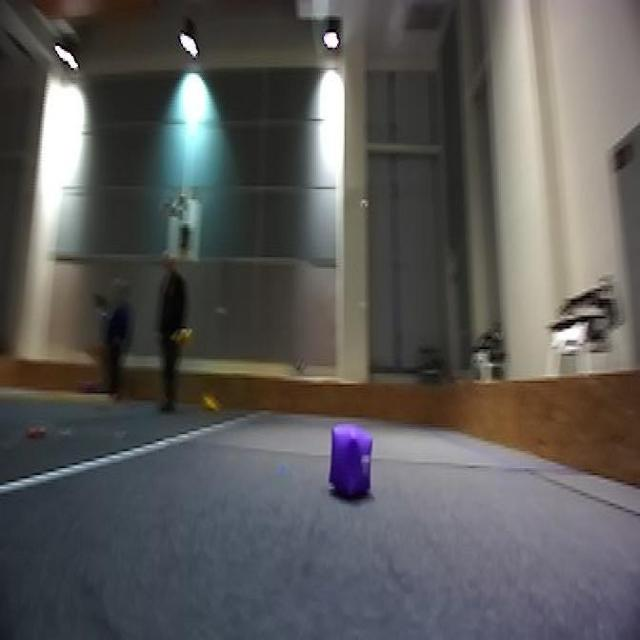frc_cone: (172, 322, 197, 351), (199, 389, 220, 414)
frc_cube: (328, 422, 373, 501)
